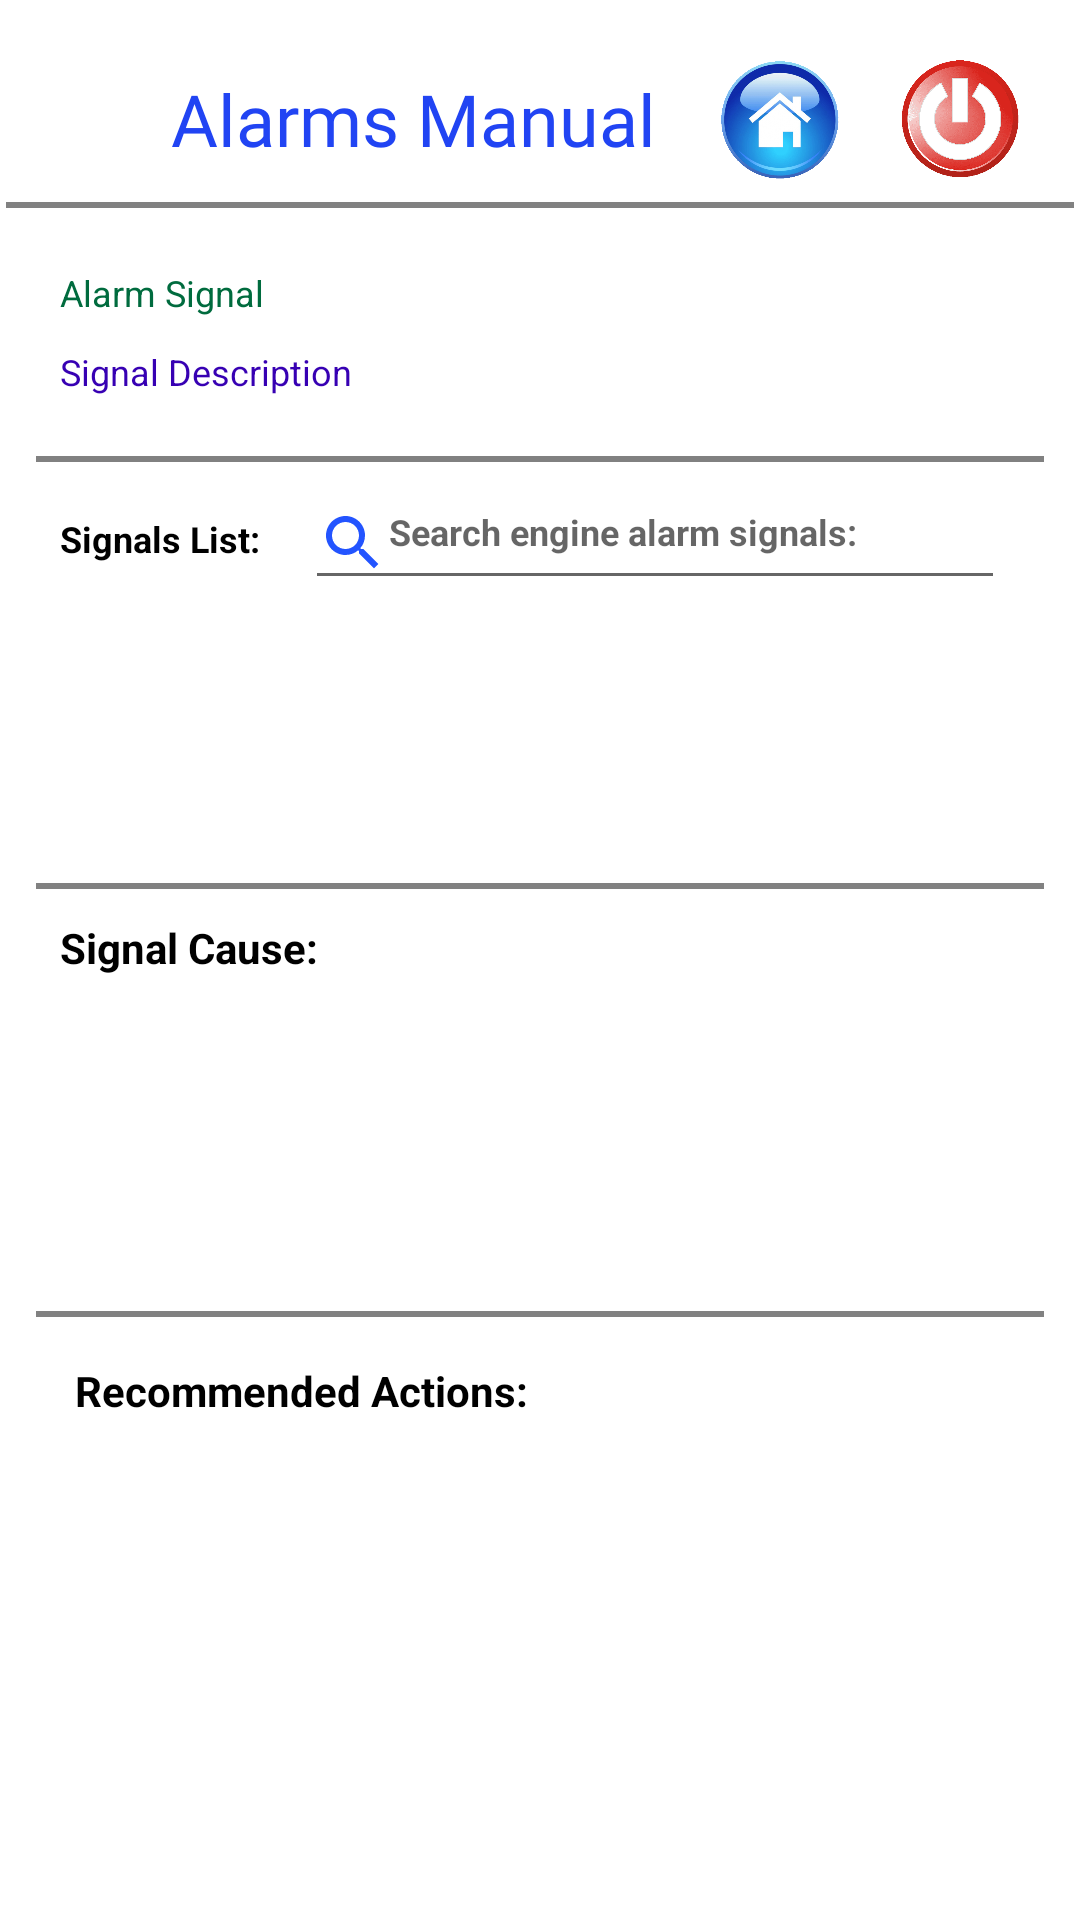

Named icons in this screenshot (1080px x 1920px) and their centers, (x=x, y=y):
home: (x=780, y=120)
sign out: (x=960, y=118)
